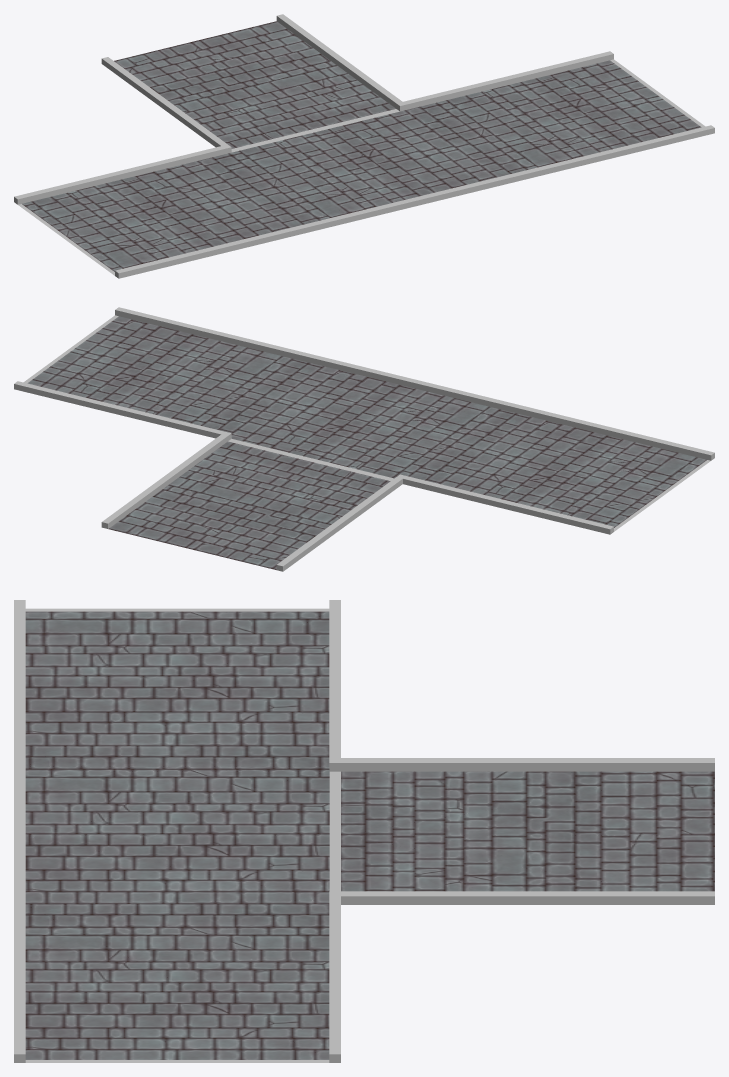
Rendered from Road_T_Intersection.FBX.
The picture shows the model from 3 angles, top to bottom: view 1: azimuth 30°, elevation 25°; view 2: azimuth 150°, elevation 25°; view 3: azimuth 270°, elevation 25°; orthographic projection. The views are drawn at different scales.
Visible parts, largest first — view 1: Road_T_Intersection; view 2: Road_T_Intersection; view 3: Road_T_Intersection.
Boxes of the visible parts, box(x1,y1,x2,y2) form: Road_T_Intersection: box(14, 14, 714, 278); Road_T_Intersection: box(14, 307, 714, 571); Road_T_Intersection: box(14, 600, 714, 1062).
Size of the model in its own units: 905 by 7.87 by 591.
